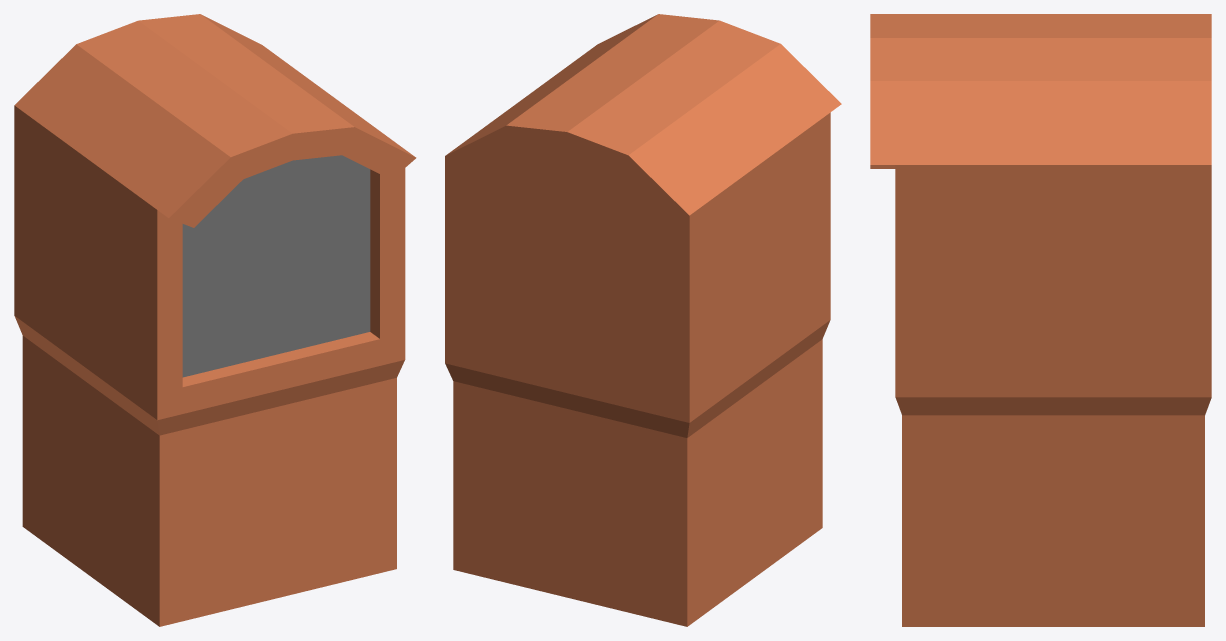
File: Orange News.fbx
The picture shows the model from 3 angles, left to right: view 1: azimuth 30°, elevation 25°; view 2: azimuth 150°, elevation 25°; view 3: azimuth 270°, elevation 25°; orthographic projection. The views are drawn at different scales.
Parts seen in each view (by area): view 1: News_Box_1___Copy_pCube6; view 2: News_Box_1___Copy_pCube6; view 3: News_Box_1___Copy_pCube6.
Part boxes in pixels (box(x1,y1,x2,y2)): News_Box_1___Copy_pCube6: box(14, 14, 416, 626); News_Box_1___Copy_pCube6: box(445, 14, 841, 626); News_Box_1___Copy_pCube6: box(870, 14, 1211, 626).
Bounding box in the file's own units: 0.6168 × 1.13 × 0.6661.
